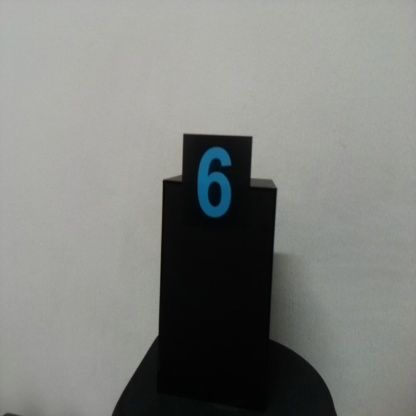id_6: (180, 133, 253, 247)
